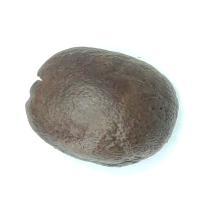NG: (25, 60, 52, 111)
